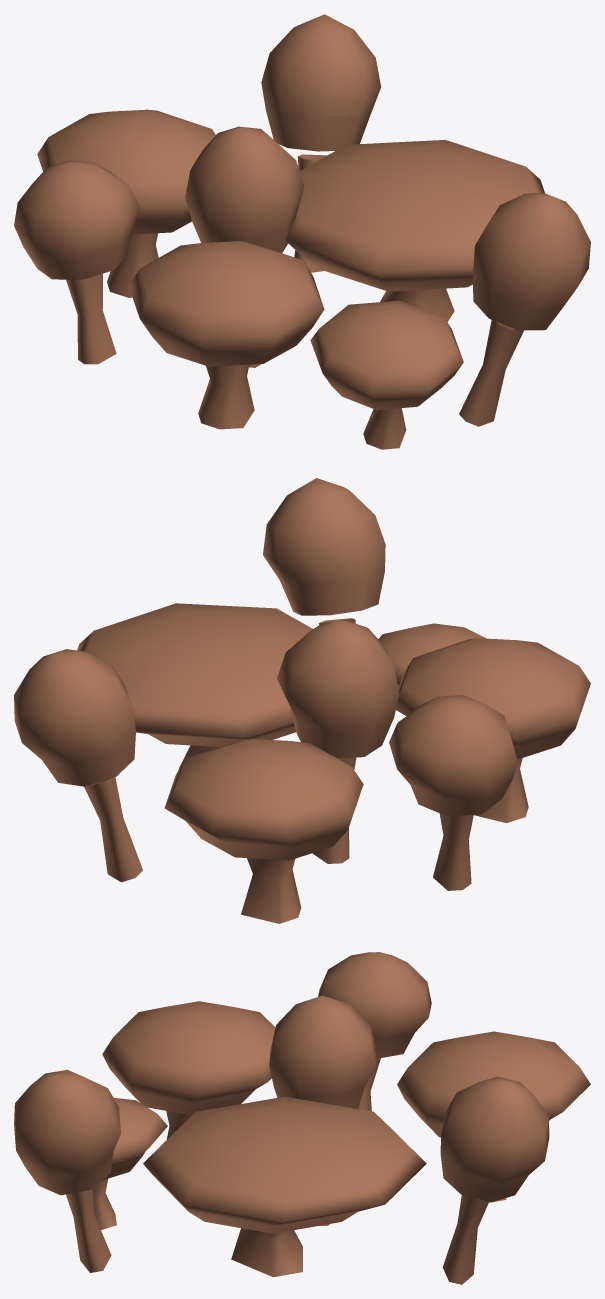
File: MiniMushMesh.fbx
The picture shows the model from 3 angles, top to bottom: view 1: azimuth 30°, elevation 25°; view 2: azimuth 150°, elevation 25°; view 3: azimuth 270°, elevation 25°; orthographic projection. The views are drawn at different scales.
Visible parts, largest first — view 1: pasted__pCylinder23; view 2: pasted__pCylinder23; view 3: pasted__pCylinder23.
Boxes of the visible parts, x1,y1,x2,y2 form: pasted__pCylinder23: (14, 14, 590, 449); pasted__pCylinder23: (14, 478, 590, 923); pasted__pCylinder23: (14, 952, 590, 1284).
Bounding box in the file's own units: 261 × 125 × 297.
